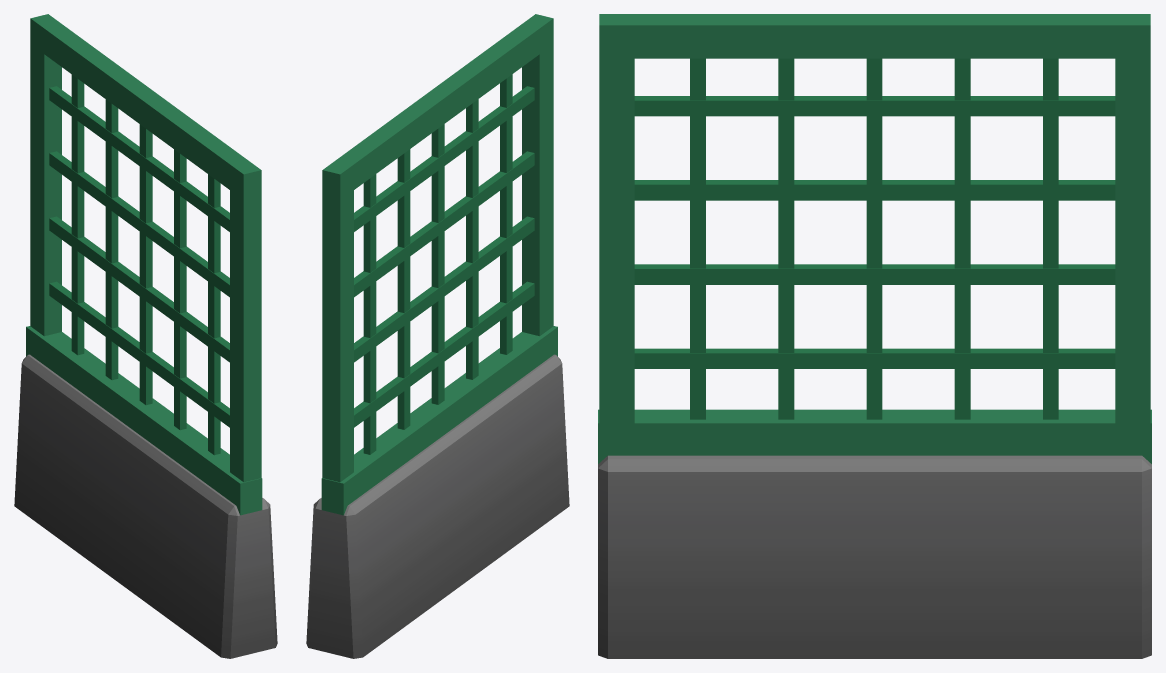
Rendered from Fence_1_B_5.fbx.
3 renders of one model, left to right at view 1: azimuth 30°, elevation 25°; view 2: azimuth 150°, elevation 25°; view 3: azimuth 270°, elevation 25°, orthographic. The views are drawn at different scales.
Parts seen in each view (by area): view 1: Fence_1_B_5; view 2: Fence_1_B_5; view 3: Fence_1_B_5.
Part boxes in pixels (x1,y1,x2,y2): Fence_1_B_5: [14, 14, 277, 658]; Fence_1_B_5: [306, 14, 569, 658]; Fence_1_B_5: [598, 14, 1151, 658].
Size of the model in its own units: 30.52 by 248 by 200.
